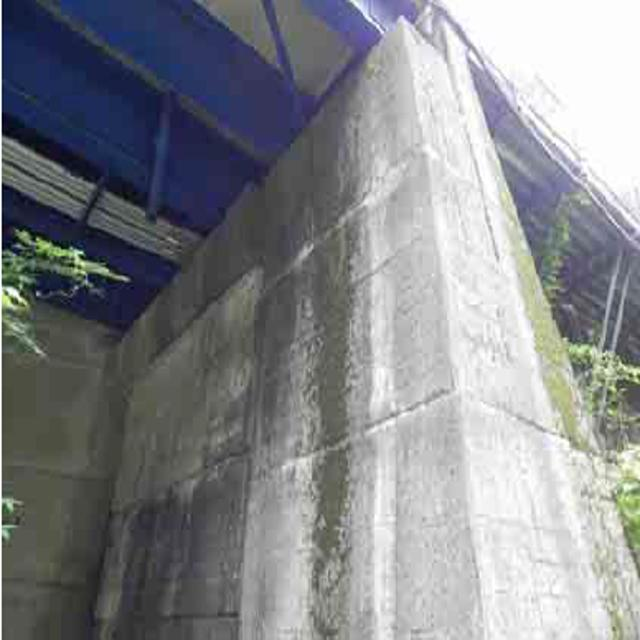leakage: (237, 114, 380, 619)
